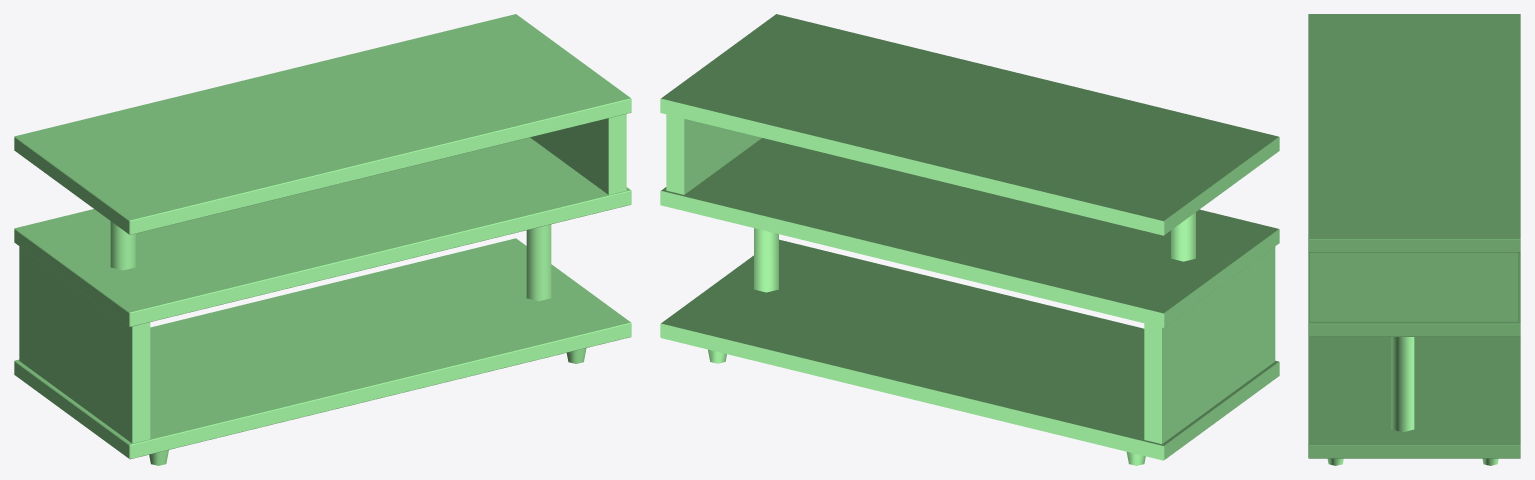
The model's file is RFAIPP_Stand.FBX.
3 views of the same model, side by side, from view 1: azimuth 30°, elevation 25°; view 2: azimuth 150°, elevation 25°; view 3: azimuth 270°, elevation 25° (orthographic). The views are drawn at different scales.
Parts seen in each view (by area): view 1: RFAIPP_Stand; view 2: RFAIPP_Stand; view 3: RFAIPP_Stand.
Part boxes in pixels (box(x1,y1,x2,y2)): RFAIPP_Stand: box(14, 14, 631, 465); RFAIPP_Stand: box(660, 14, 1279, 465); RFAIPP_Stand: box(1308, 14, 1520, 465).
Size of the model in its own units: 1.25 by 0.6233 by 0.4964.
